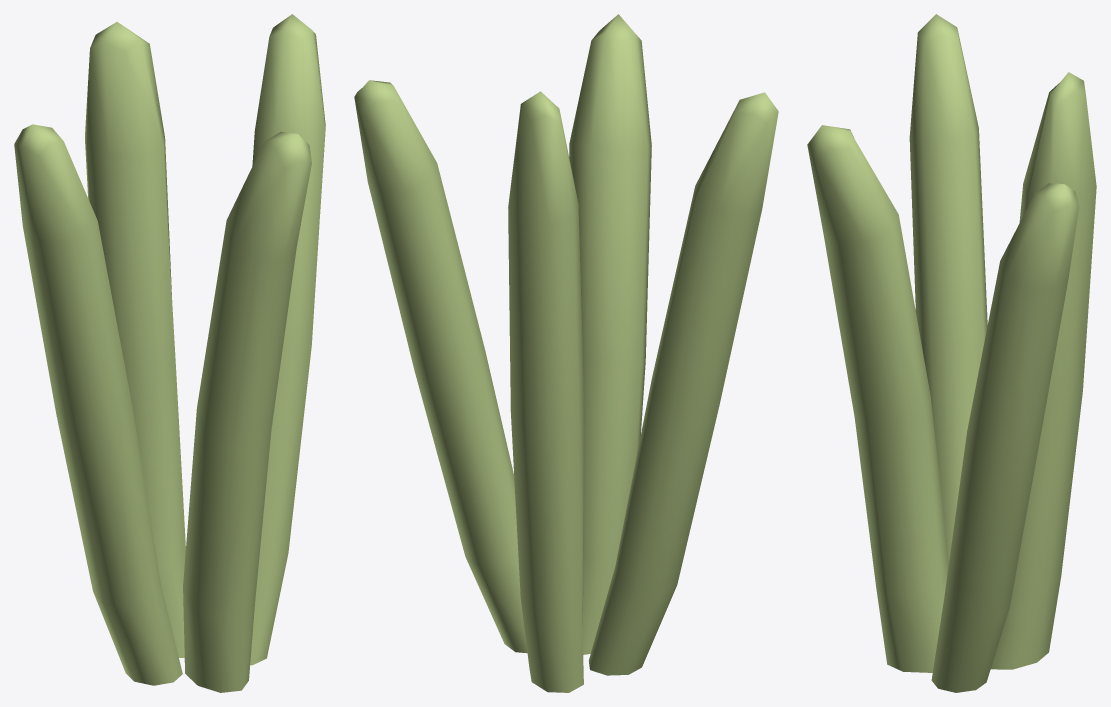
Rendered from Grass_12.fbx.
3 renders of one model, left to right at view 1: azimuth 30°, elevation 25°; view 2: azimuth 150°, elevation 25°; view 3: azimuth 270°, elevation 25°, orthographic. The views are drawn at different scales.
Parts seen in each view (by area): view 1: polySurface800; view 2: polySurface800; view 3: polySurface800.
Boxes of the visible parts, <box> form: polySurface800: <box>14,14,325,692</box>; polySurface800: <box>354,14,778,692</box>; polySurface800: <box>807,14,1096,692</box>.
Bounding box in the file's own units: 33.63 × 54.61 × 24.74.
